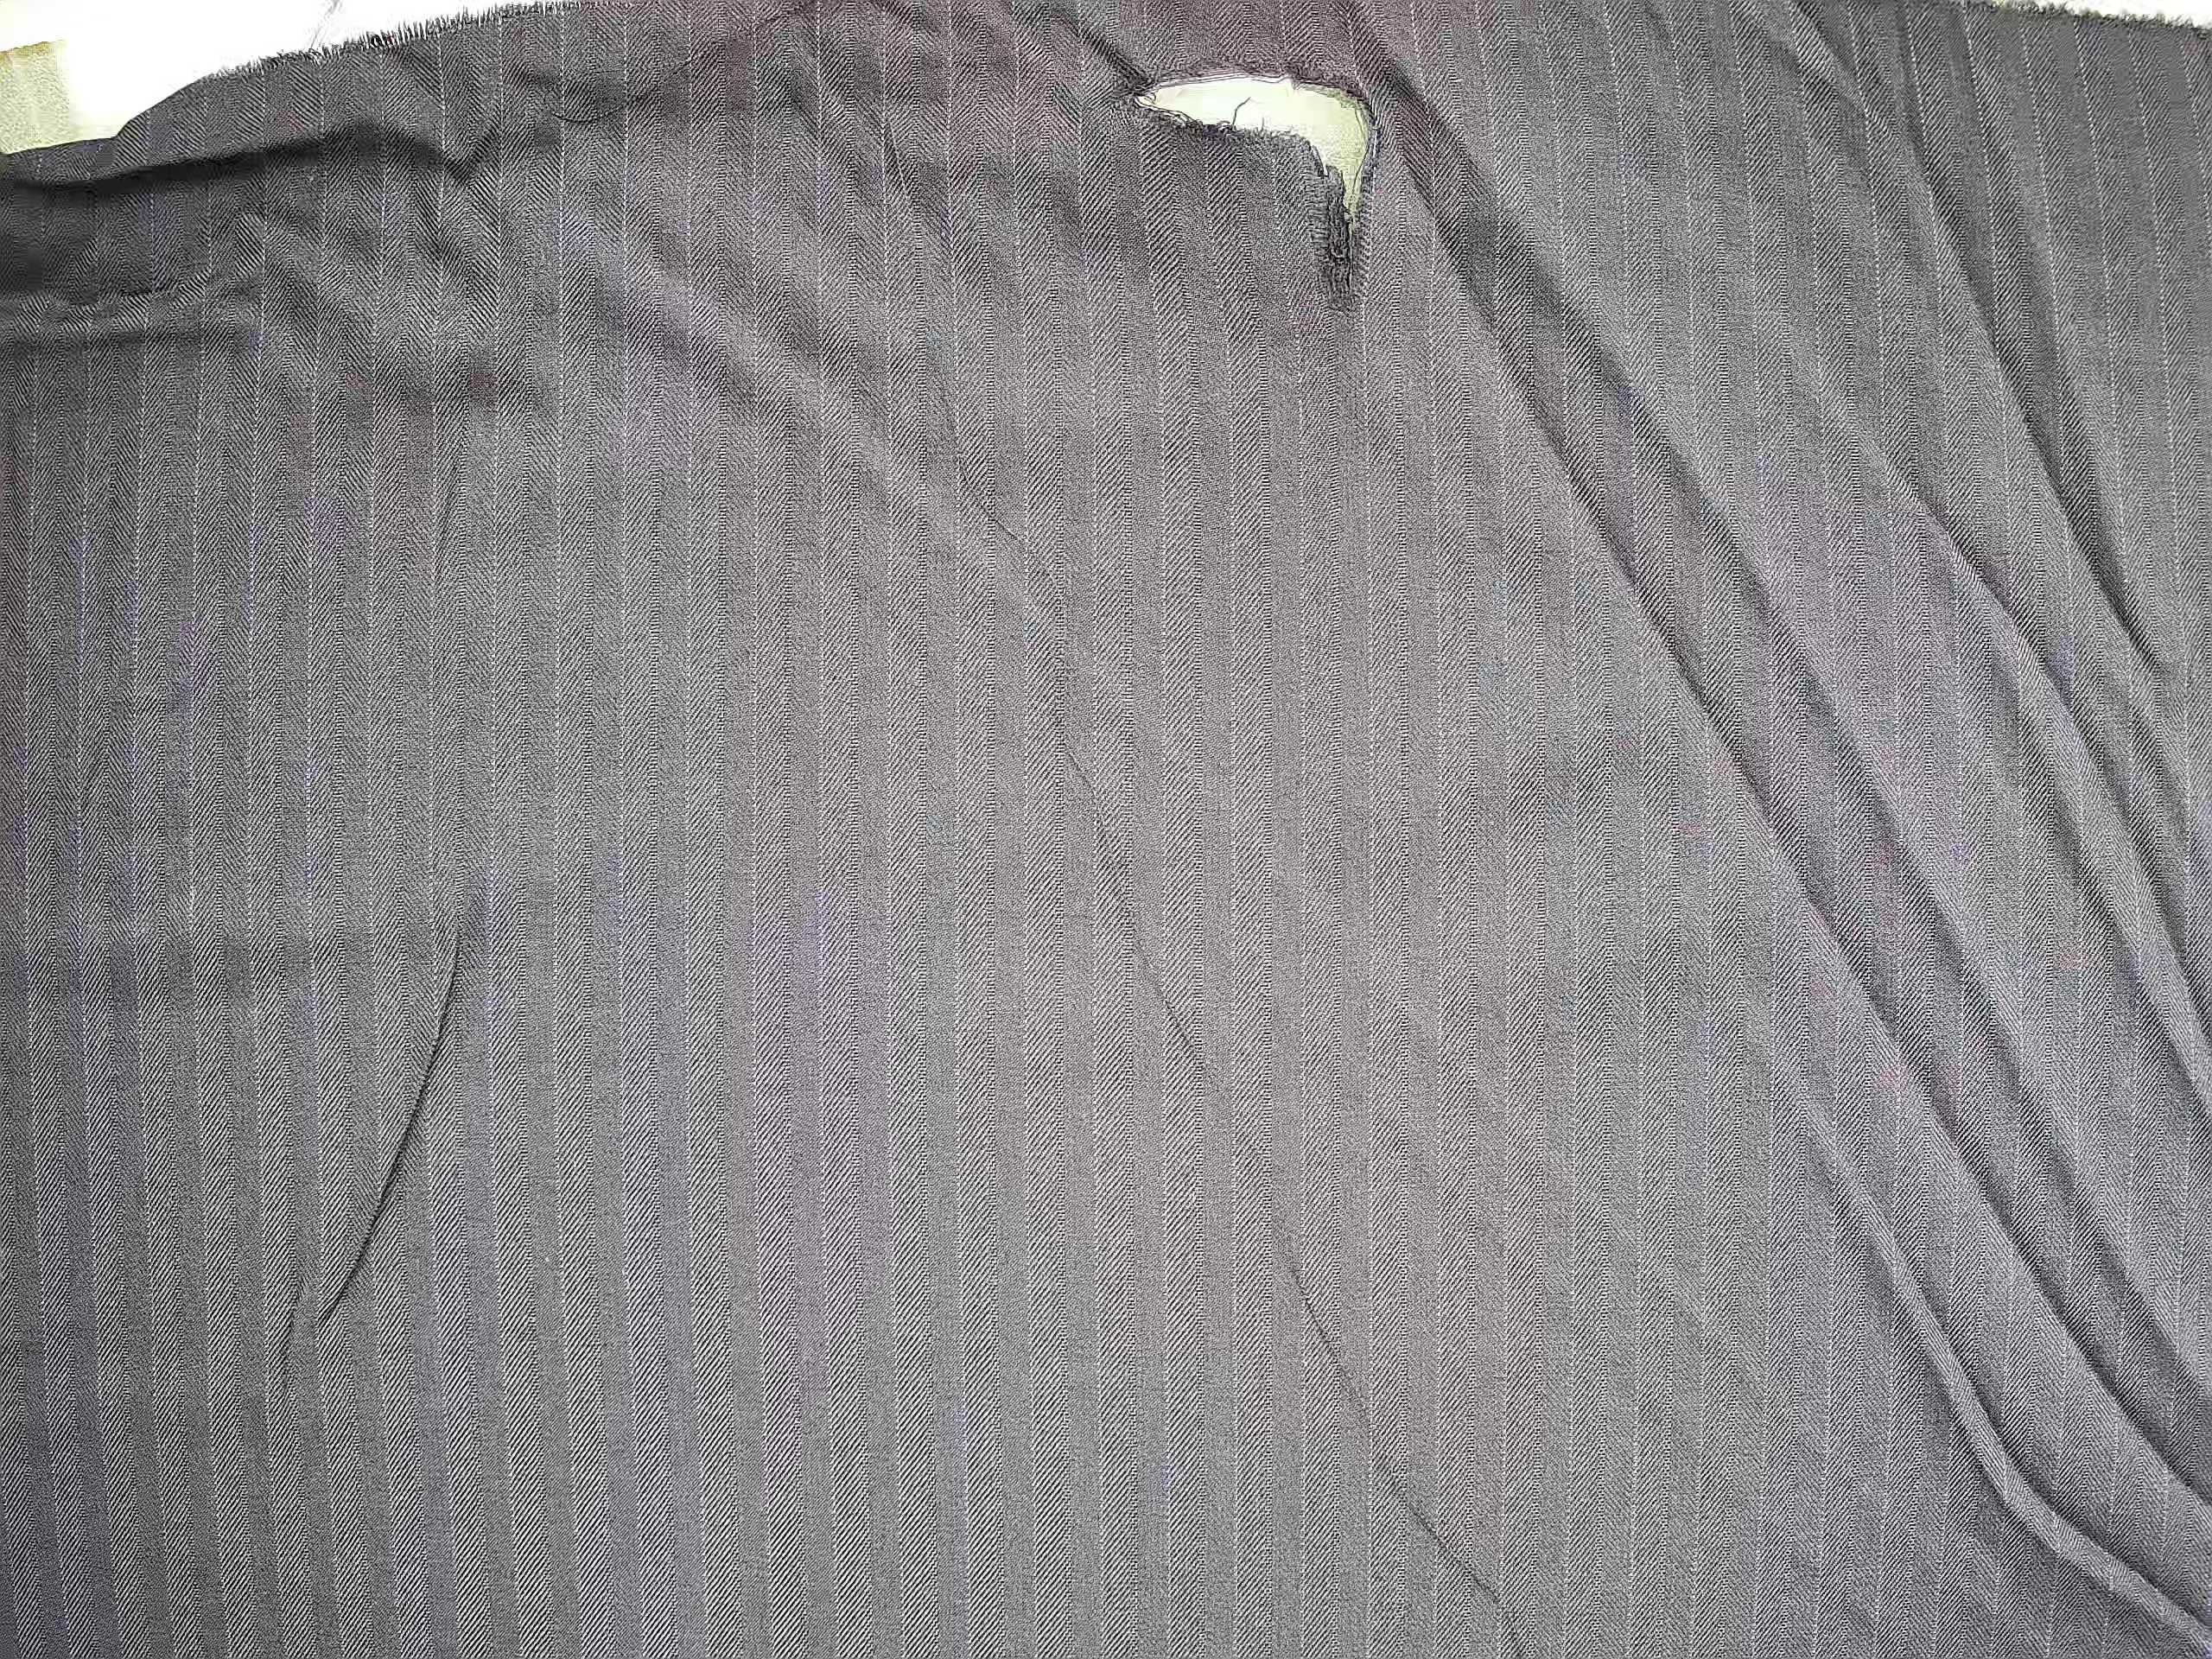rubbing-hole: (1103, 19, 1420, 350)
